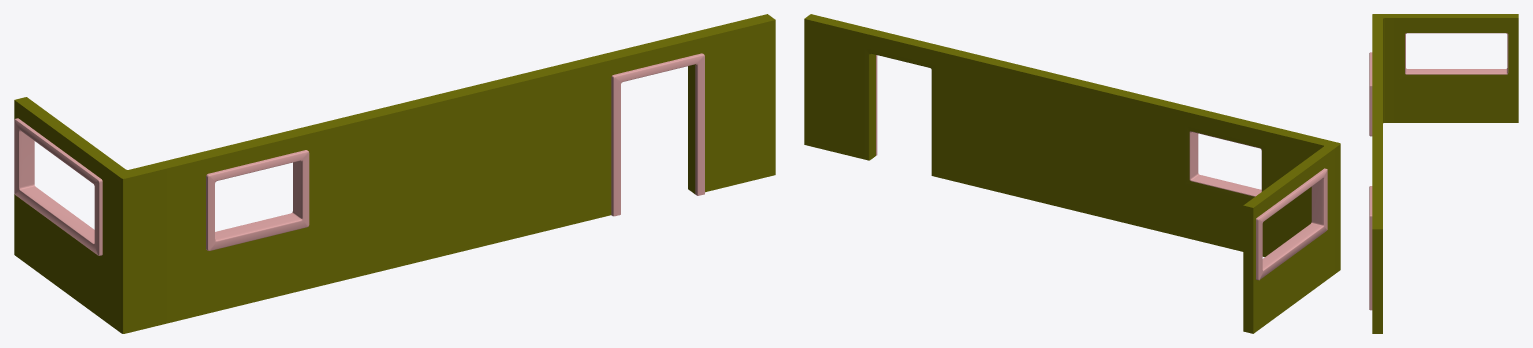
Rendered from KitchenWall.fbx.
The picture shows the model from 3 angles, left to right: view 1: azimuth 30°, elevation 25°; view 2: azimuth 150°, elevation 25°; view 3: azimuth 270°, elevation 25°; orthographic projection. The views are drawn at different scales.
Parts seen in each view (by area): view 1: pCube226; view 2: pCube226; view 3: pCube226.
Part boxes in pixels (x1=…): pCube226: x1=14, y1=14, x2=775, y2=333; pCube226: x1=804, y1=14, x2=1340, y2=333; pCube226: x1=1369, y1=14, x2=1518, y2=333.
Bounding box in the file's own units: 18.01 × 4.06 × 5.25.
